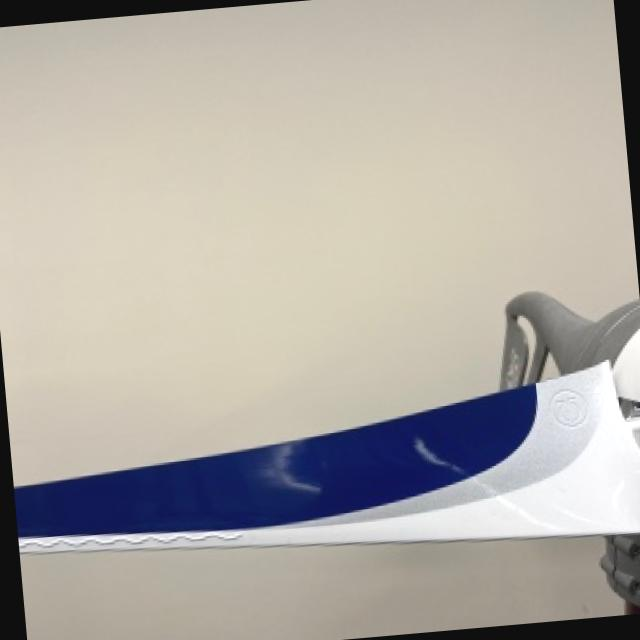healthy: (20, 288, 640, 612)
